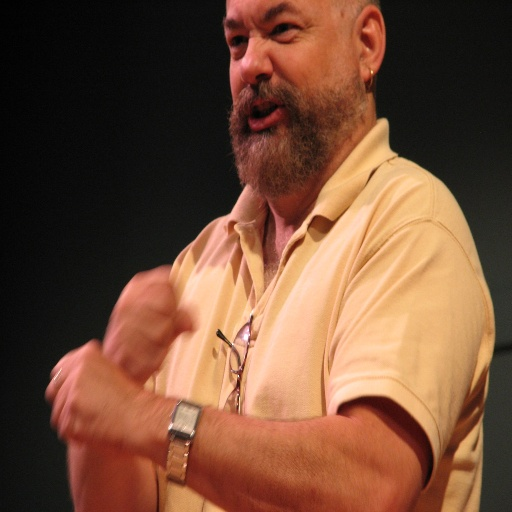hand: (43, 325, 186, 487), (100, 260, 196, 384)
